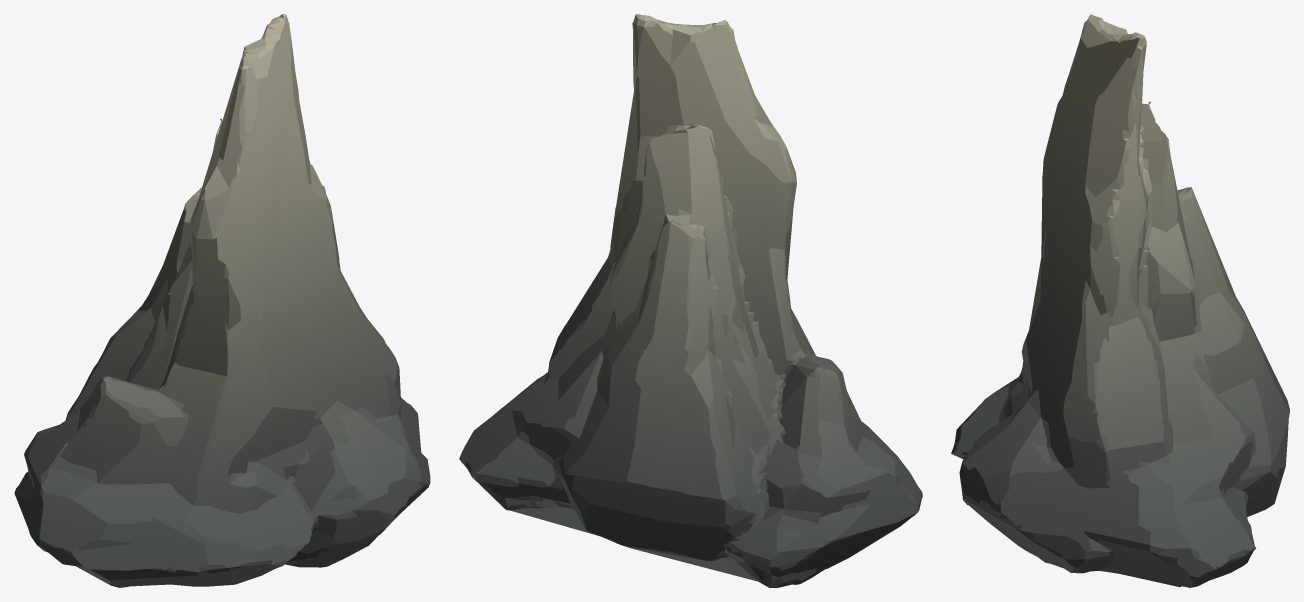
Rendered from rock_4_06.fbx.
3 renders of one model, left to right at view 1: azimuth 30°, elevation 25°; view 2: azimuth 150°, elevation 25°; view 3: azimuth 270°, elevation 25°, orthographic. The views are drawn at different scales.
Parts seen in each view (by area): view 1: rock_4_06; view 2: rock_4_06; view 3: rock_4_06.
Part boxes in pixels (x1,y1,x2,y2): rock_4_06: (14,14,430,587); rock_4_06: (459,14,922,587); rock_4_06: (951,14,1289,587).
Size of the model in its own units: 486 by 572 by 344.
